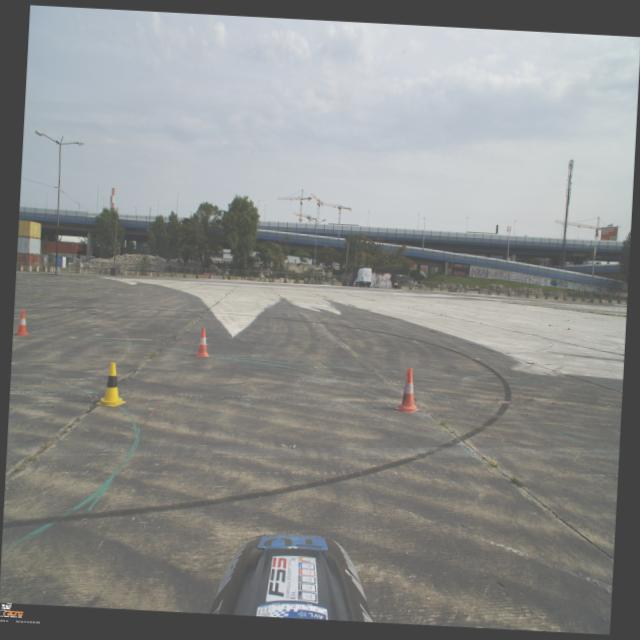orange_cone: (395, 367, 422, 413), (194, 327, 212, 358), (13, 309, 32, 336)
yellow_cone: (96, 362, 128, 408)
